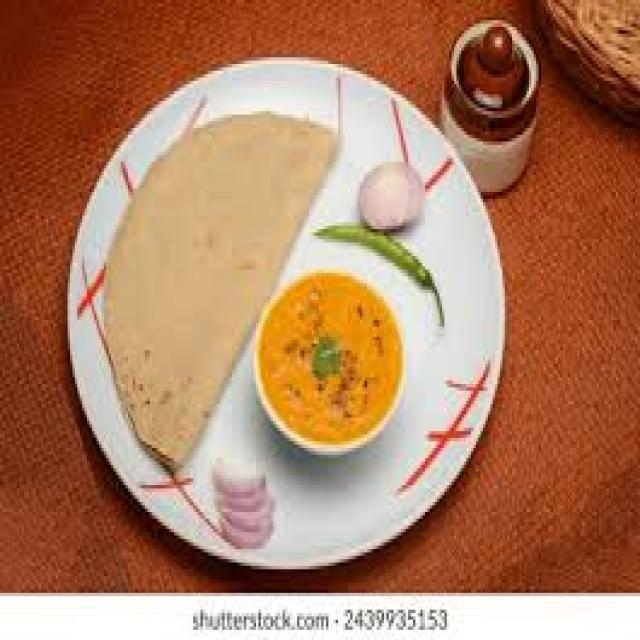DOSA: (94, 108, 328, 458)
